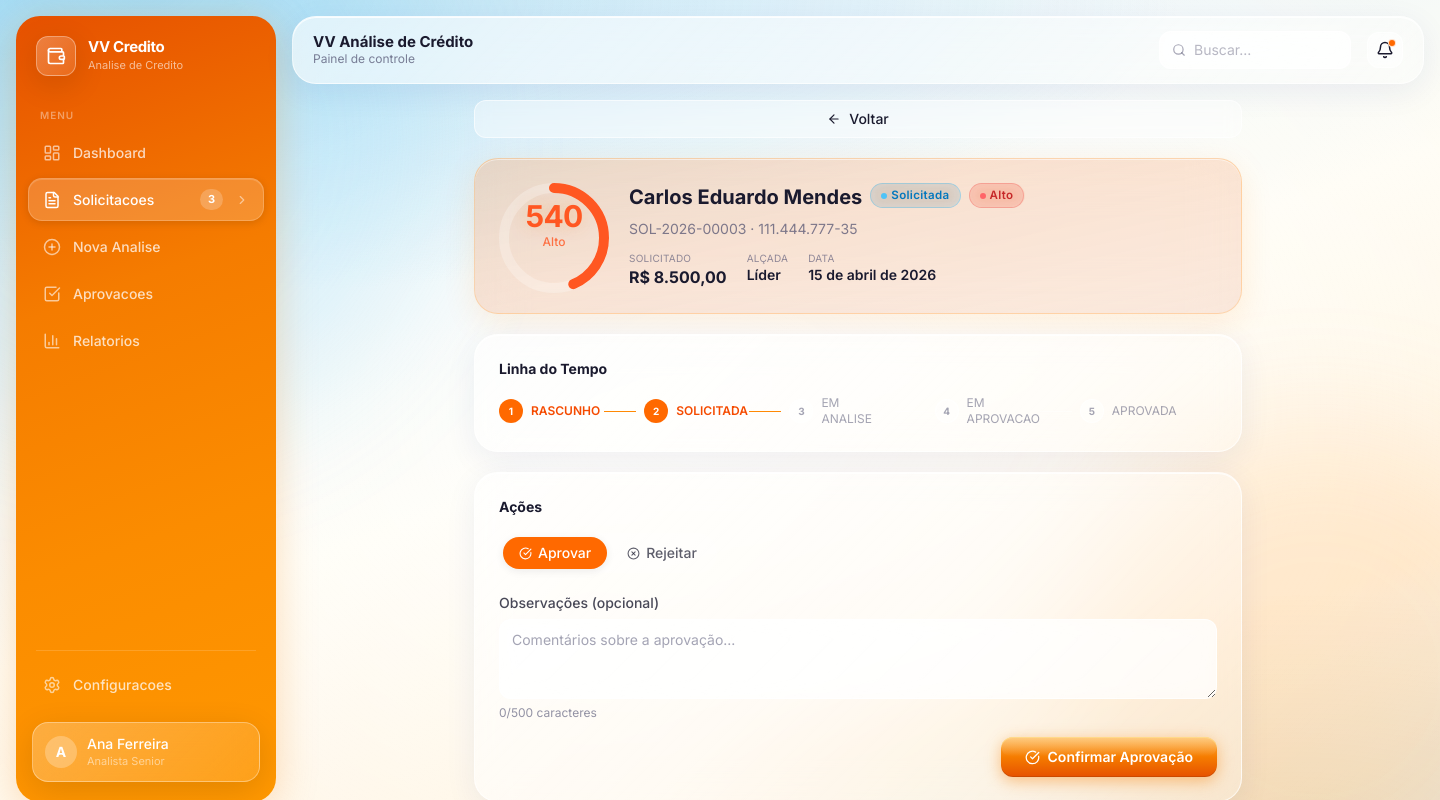
Test: Solicitação Detail — Approval & Rejection Flow › Rejection flow for a SOLICITADA request (req-003) › rejects empty motivo with validation error
Step 1. Click the button "Rejeitar" → (662, 553), box [611,537,713,569]
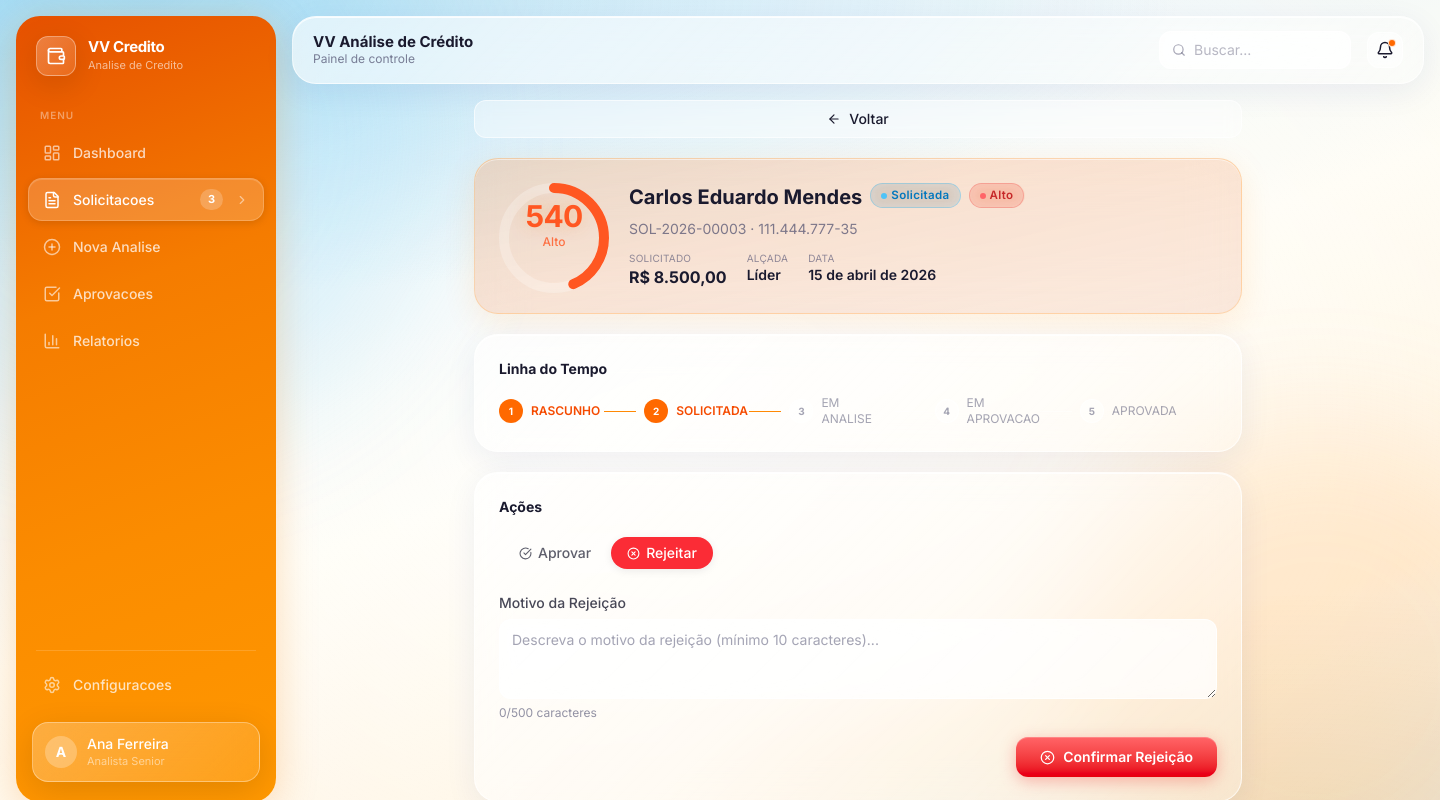
Step 2. Click the button "Confirmar Rejeição" → (1117, 757), box [1016,737,1217,777]
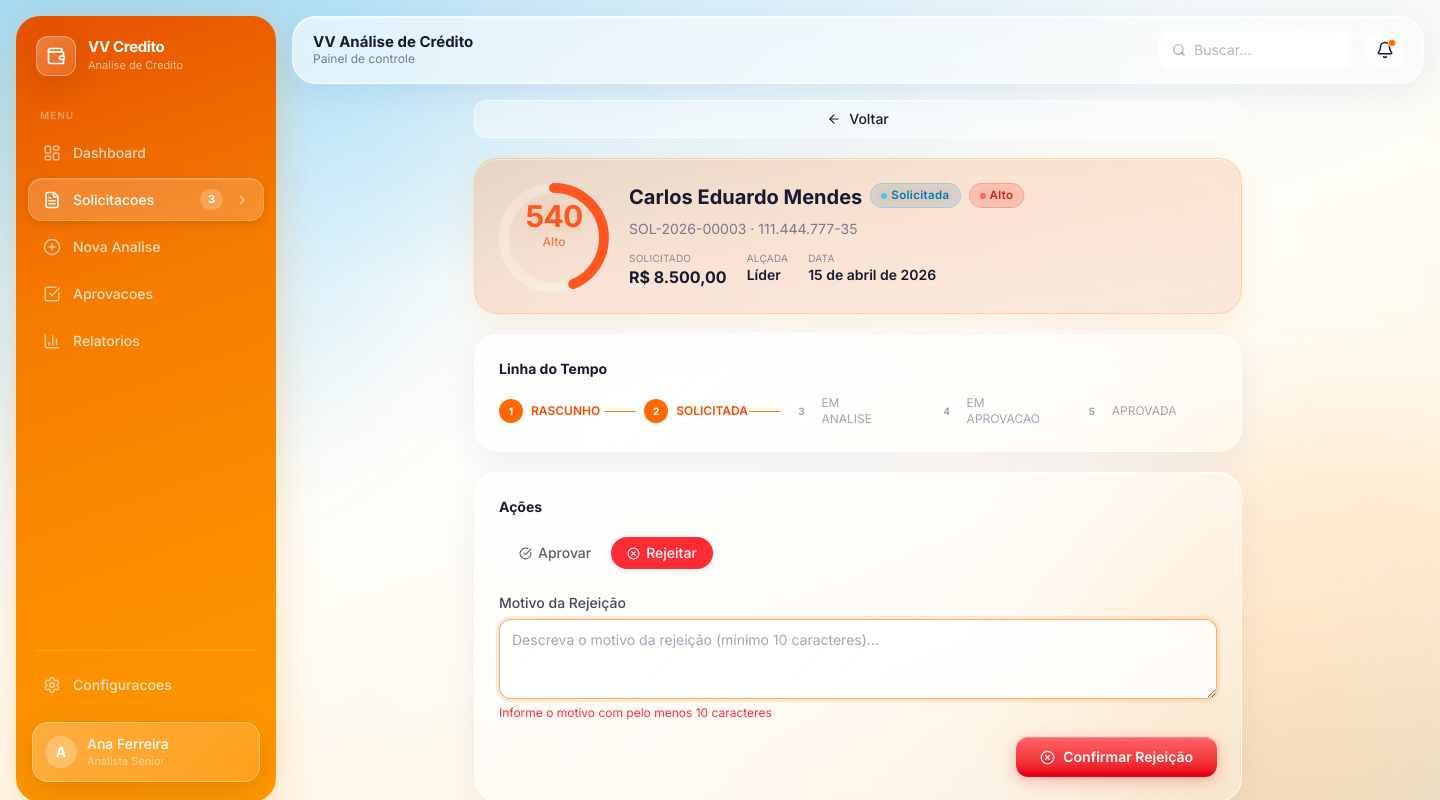
expect the text "10 caracteres" is shown: met, box [499,705,772,720]
